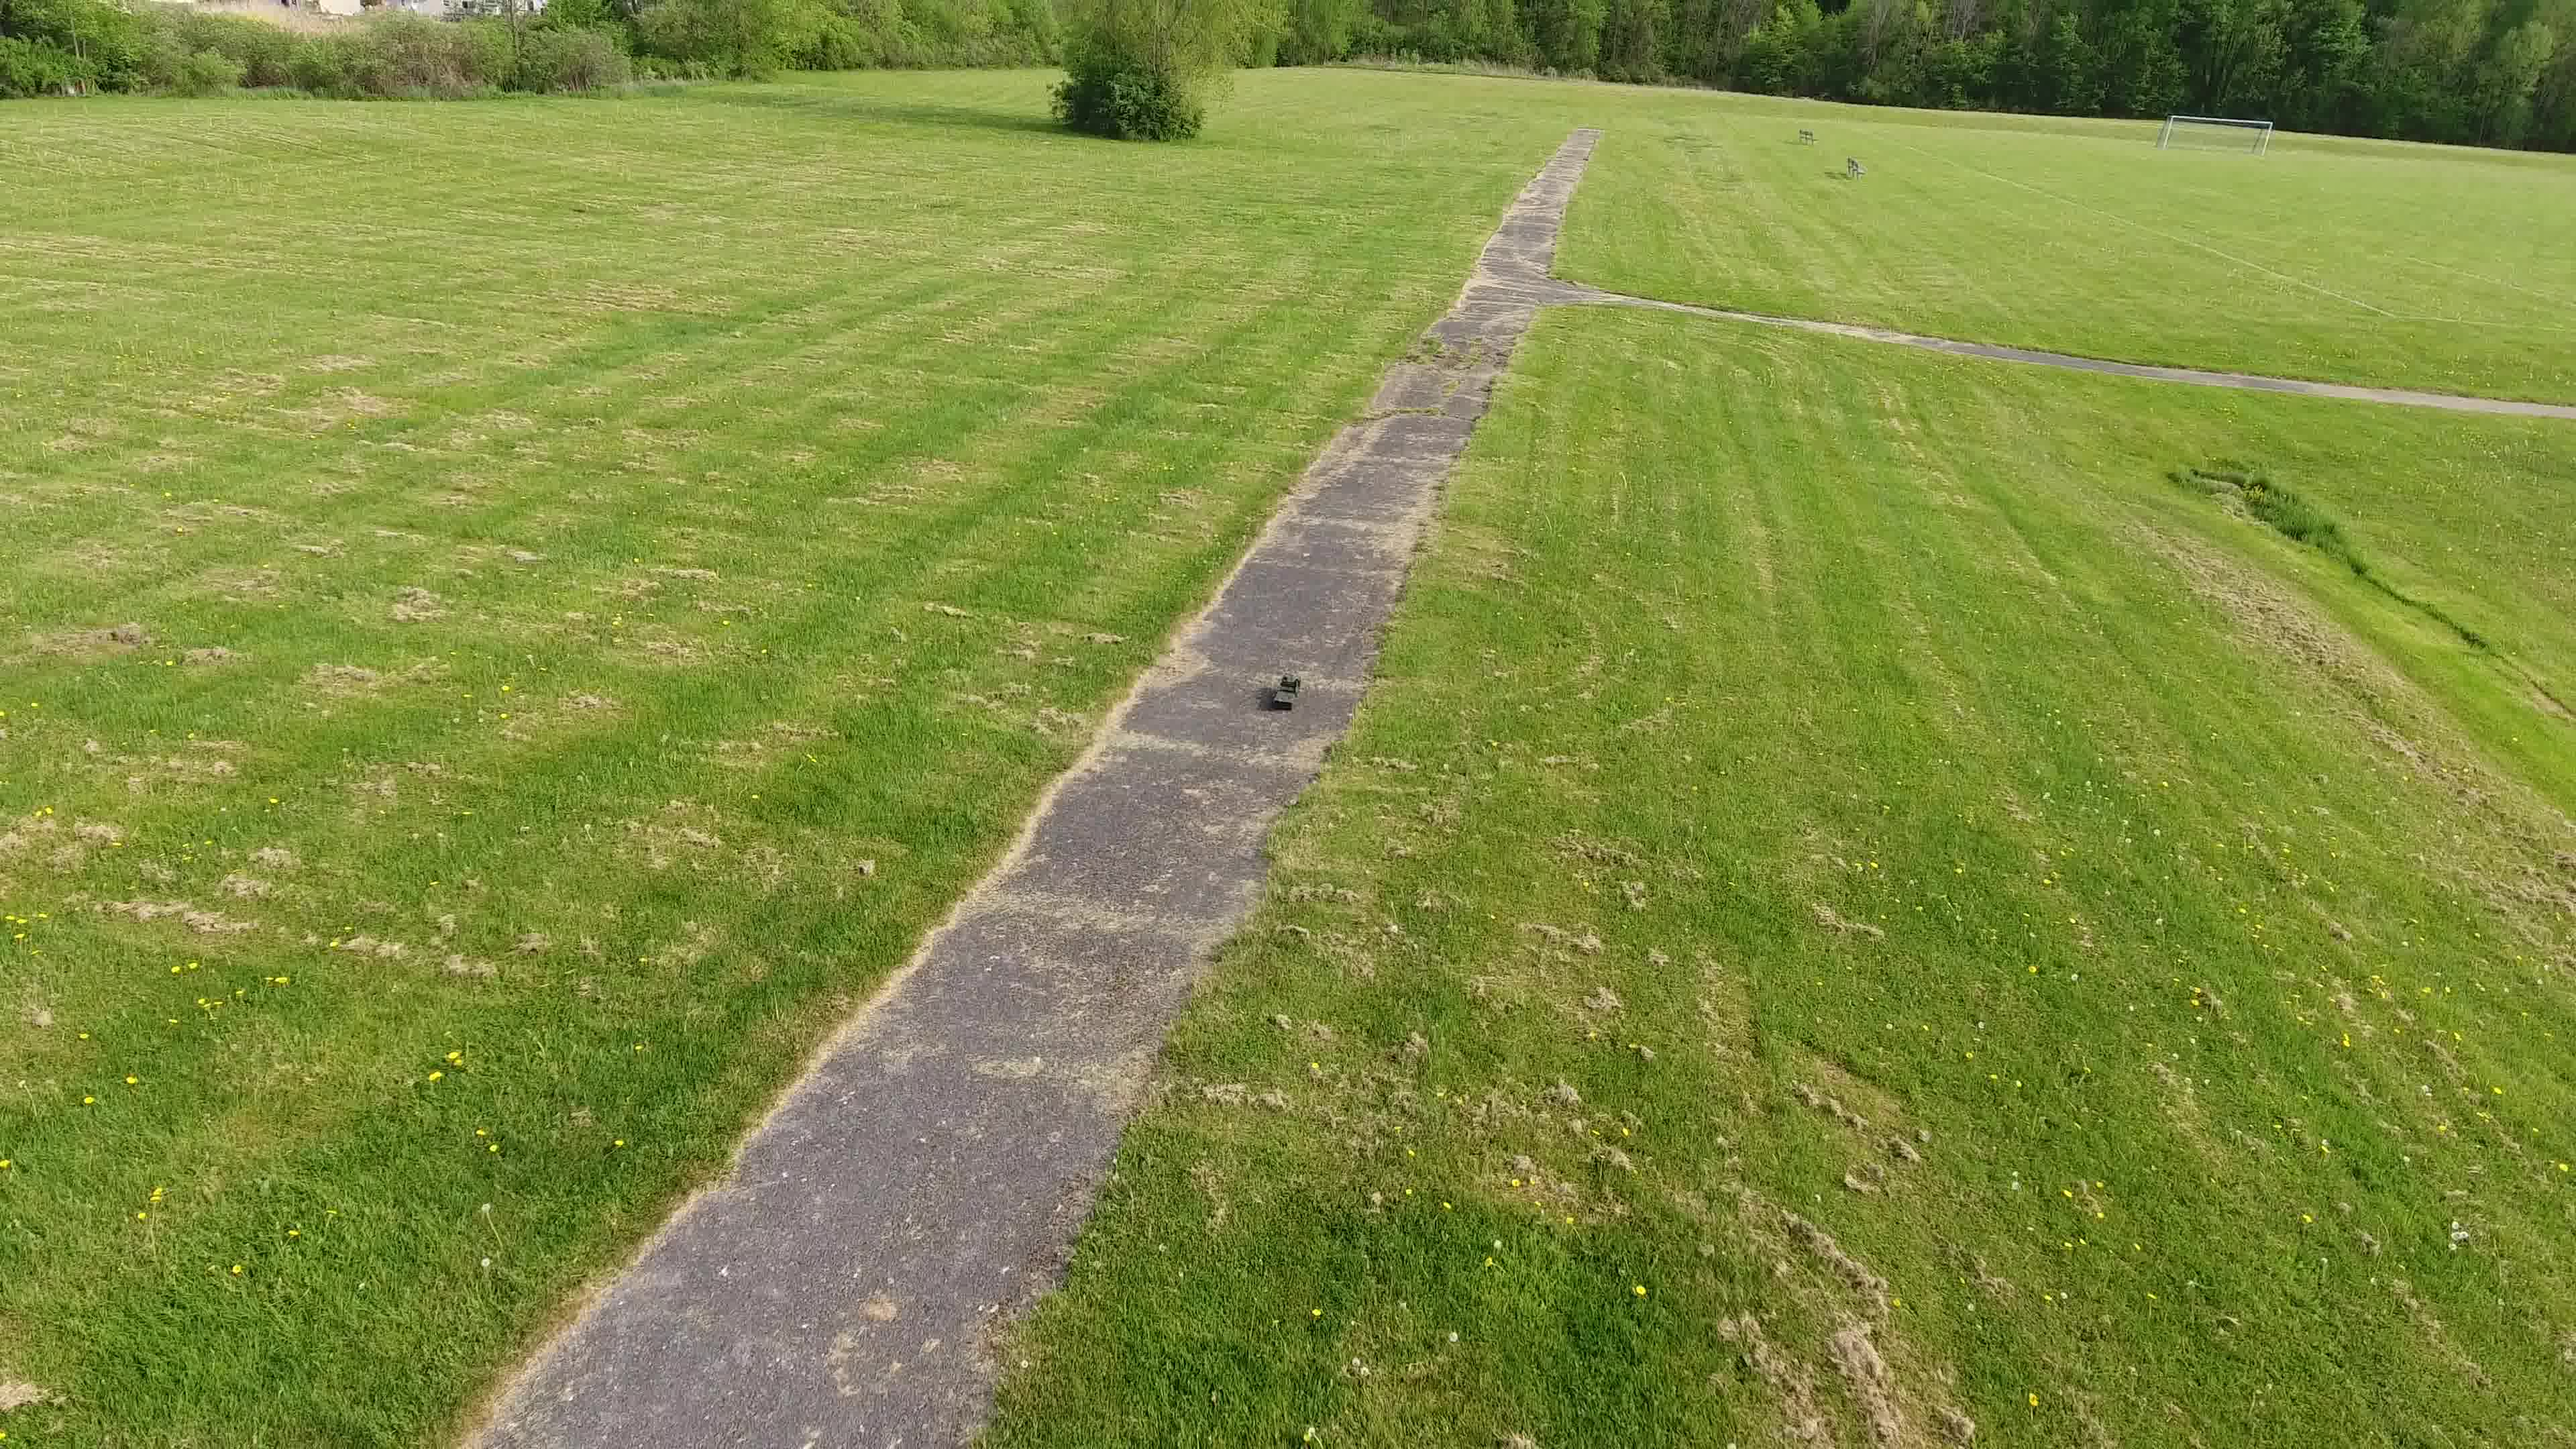transporter9_camo: (1267, 672, 1304, 713)
